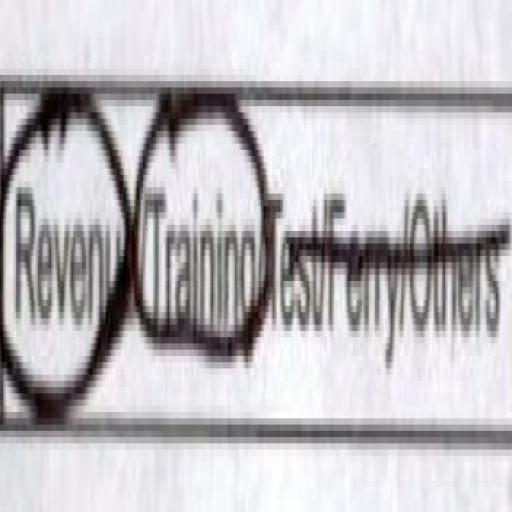check: (132, 27, 264, 512), (0, 31, 128, 512)
